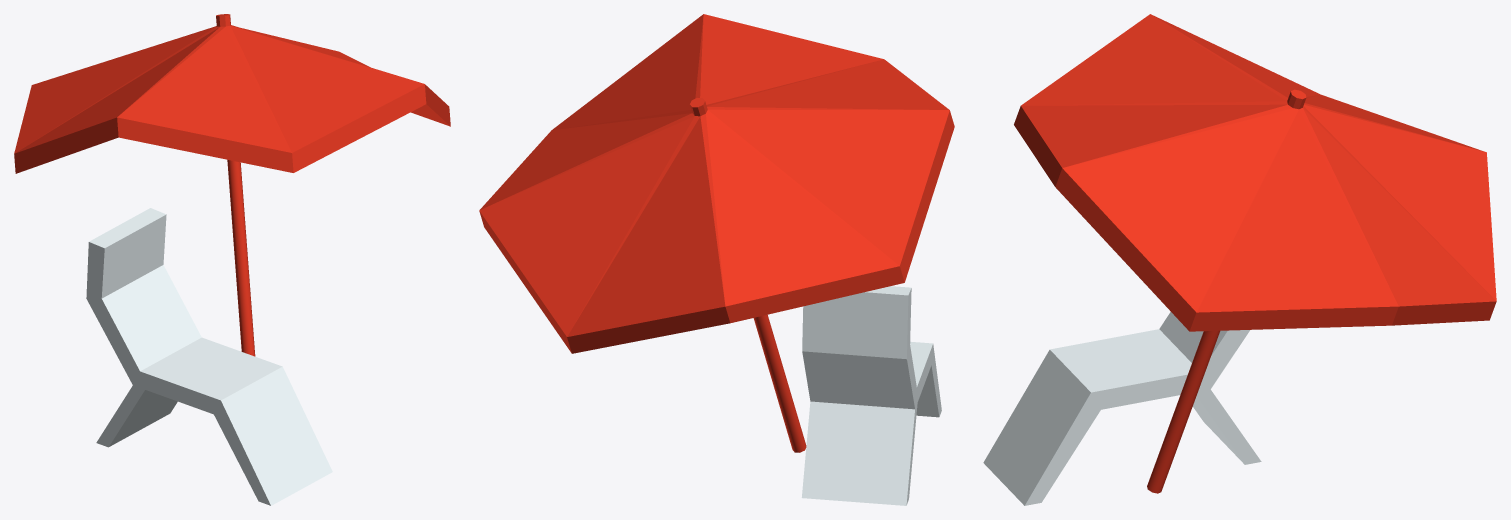
Rendered from UmbrellawithChair.FBX.
3 views of the same model, side by side, from view 1: azimuth 30°, elevation 25°; view 2: azimuth 150°, elevation 25°; view 3: azimuth 270°, elevation 25° (orthographic). The views are drawn at different scales.
Parts seen in each view (by area): view 1: UmbrellaandChair; view 2: UmbrellaandChair; view 3: UmbrellaandChair.
Part boxes in pixels (left/top/right/bottom): UmbrellaandChair: left=14, top=14, right=450, bottom=505; UmbrellaandChair: left=479, top=14, right=954, bottom=505; UmbrellaandChair: left=983, top=14, right=1496, bottom=505.
Bounding box in the file's own units: 5.81 × 5.37 × 5.93.
